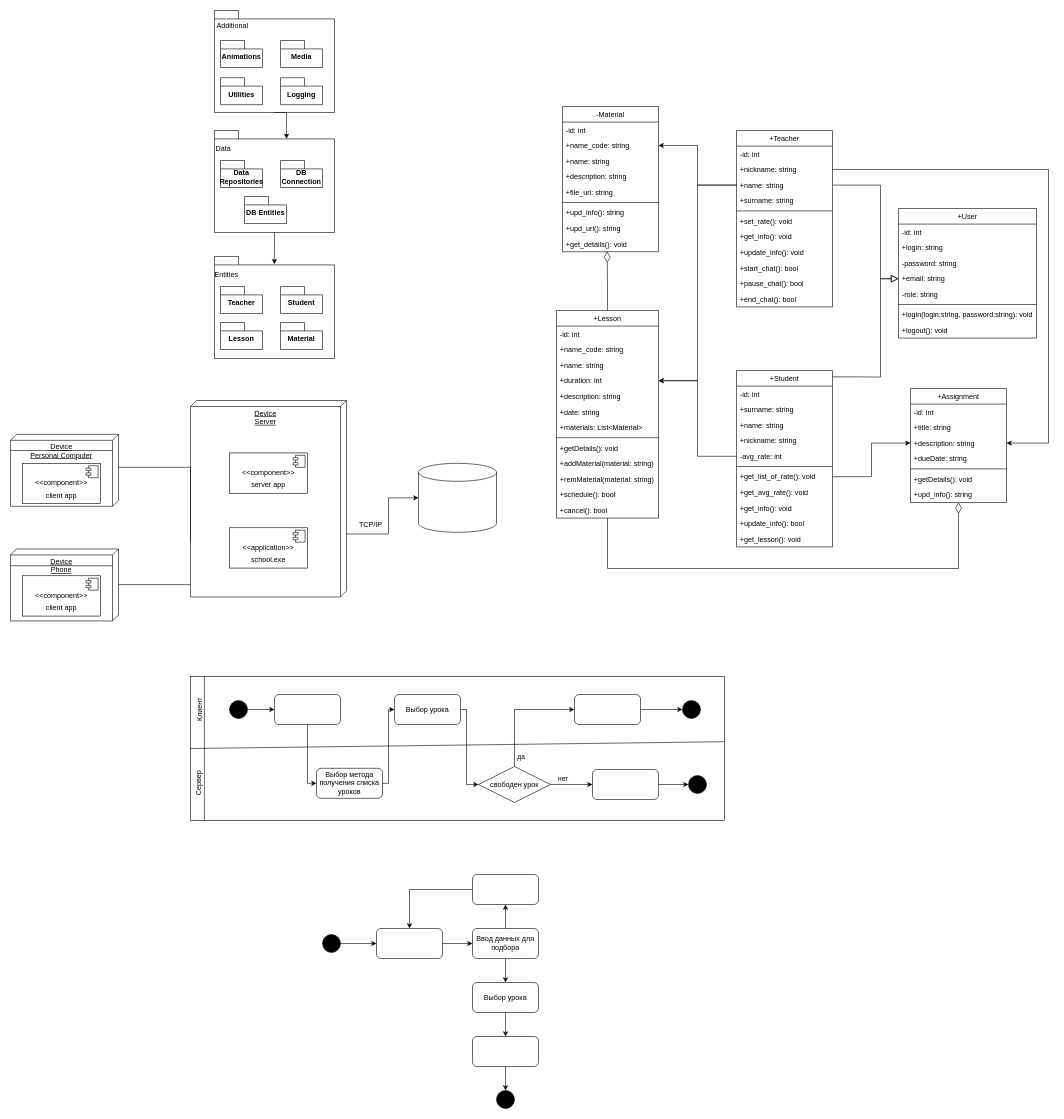
Some shapes in this 1064 by 1119 pixel diagram are drawn without their labels. The centre of each missing label's shape, as x and y in pixels:
"OracleDB" belongs at point (457, 497).
"Запуск приложения" belongs at point (307, 709).
"Отмена" belongs at point (505, 889).
"Переход на страницу поиска" belongs at point (409, 943).
"Подключение" belongs at point (505, 1051).
"Присоединиться к уроку" belongs at point (607, 709).
"Сообщить что урок занят" belongs at point (625, 784).
